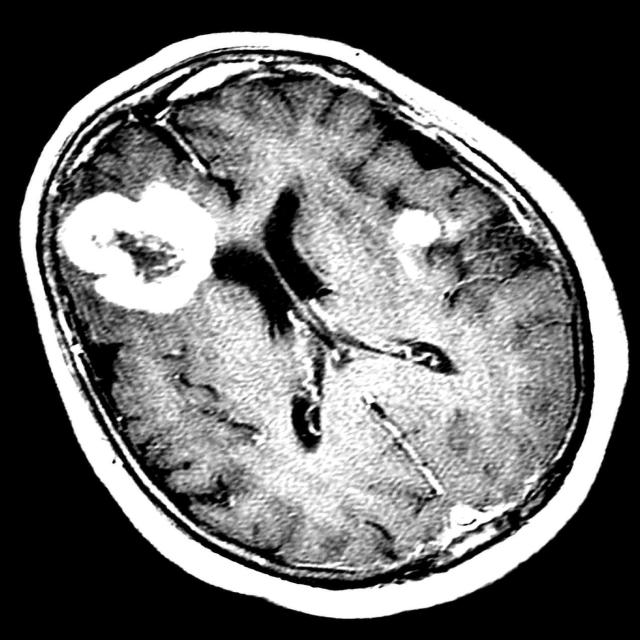Tumor-Cell: (61, 184, 218, 304)
